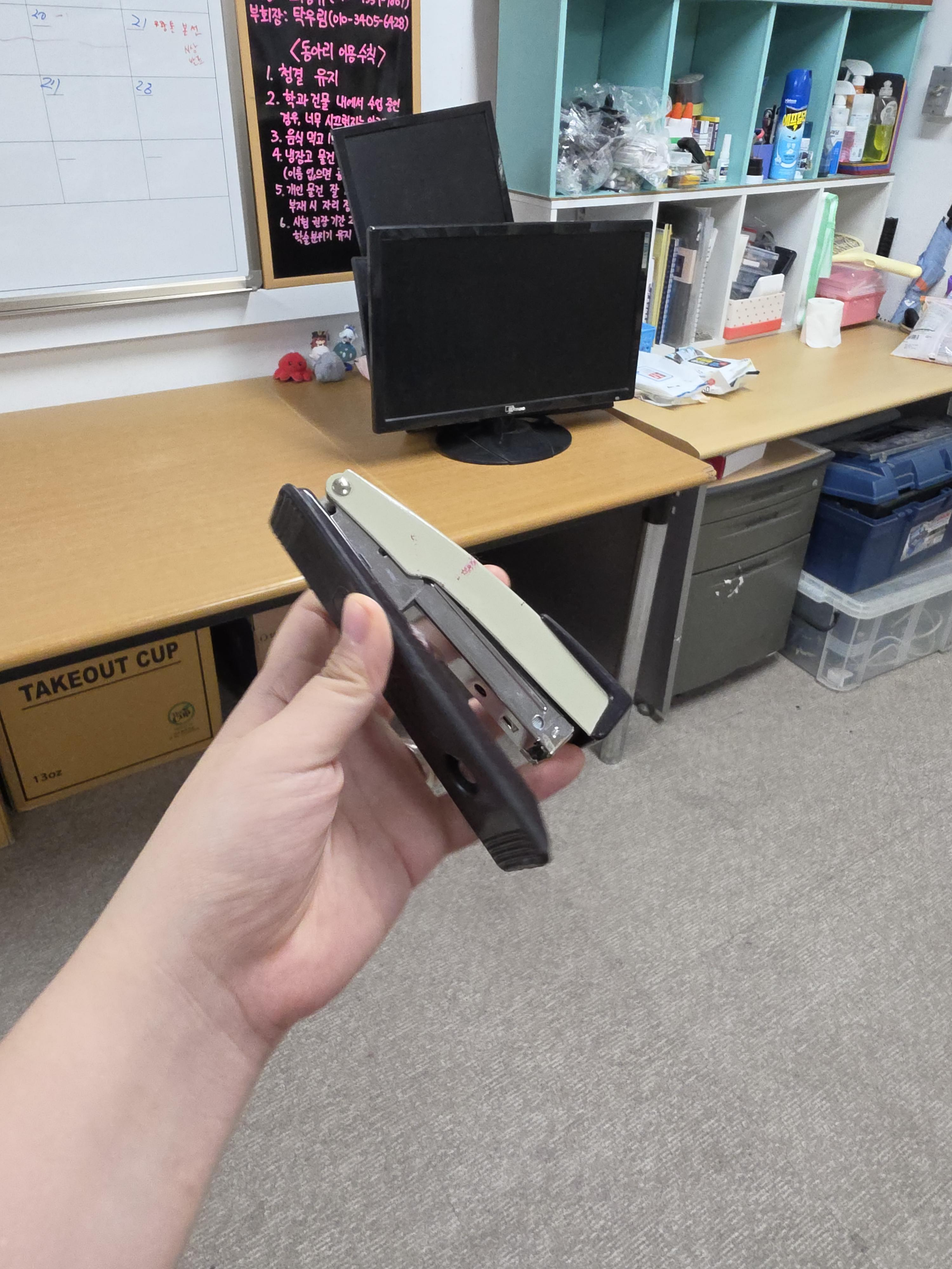stapler: (269, 469, 632, 872)
tissue: (803, 298, 843, 349)
